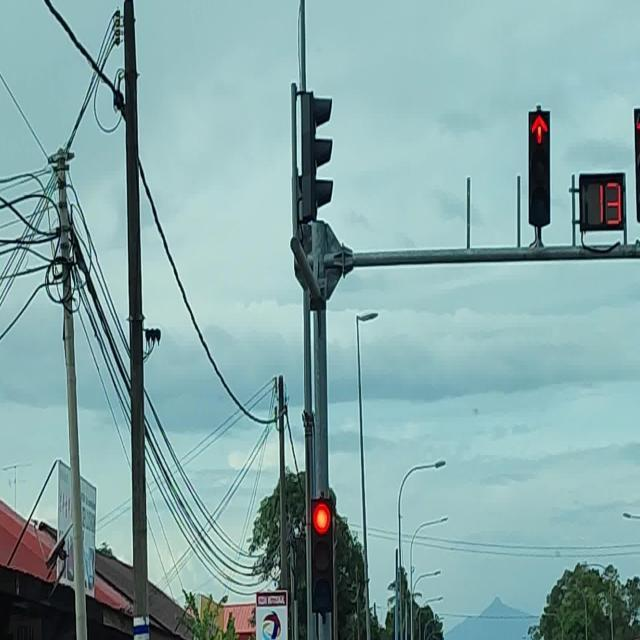red_light: (528, 110, 552, 228), (311, 497, 333, 615)
